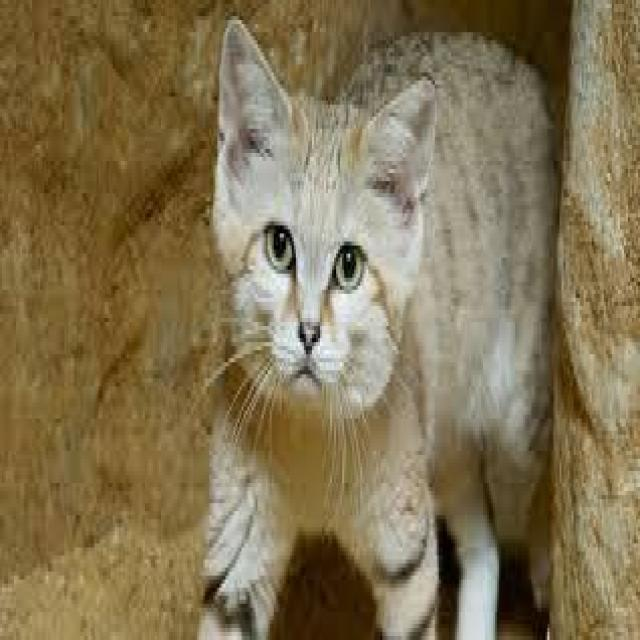Cat: (210, 14, 440, 440)
